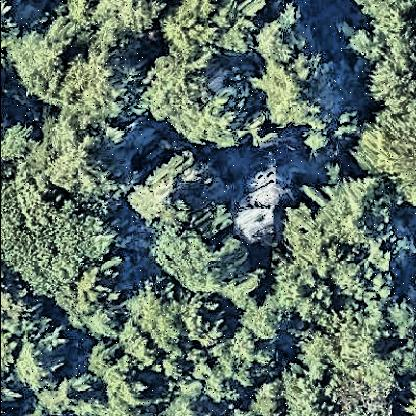tree-top: (145, 48, 257, 154), (151, 201, 261, 303), (42, 113, 145, 203), (18, 206, 114, 298), (158, 314, 240, 406), (349, 1, 416, 109), (296, 305, 388, 383), (160, 2, 267, 68), (260, 49, 338, 137), (52, 35, 125, 129), (354, 99, 416, 202), (1, 16, 75, 101), (1, 132, 47, 268), (127, 150, 215, 221), (318, 172, 394, 252), (56, 275, 128, 344), (226, 326, 288, 398), (62, 1, 168, 43), (132, 282, 192, 350), (9, 323, 62, 399), (330, 249, 400, 305), (331, 358, 395, 415), (91, 341, 145, 408), (257, 7, 311, 67), (240, 292, 298, 346), (242, 160, 302, 208), (387, 300, 416, 382), (284, 365, 330, 416), (235, 201, 279, 247), (245, 379, 287, 416)
